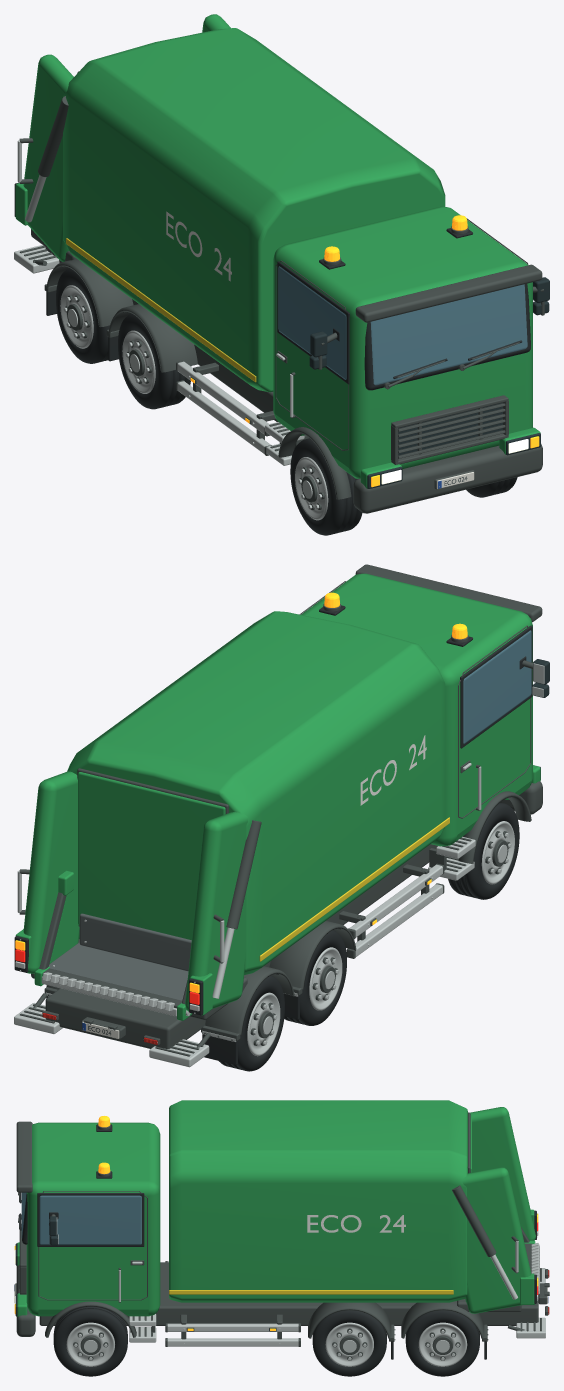
File: refuse_truck.glb
3 views of the same model, one above another, from view 1: azimuth 30°, elevation 25°; view 2: azimuth 150°, elevation 25°; view 3: azimuth 270°, elevation 25° (orthographic). The views are drawn at different scales.
Visible parts, largest first — view 1: Compactor body, Cab shell, Panoramic windshield, Front bumper, Hopper cheek, Door window, Sun visor, Performance tire, Performance tire.001, Rear mudguard, Rear mudguard.001, Performance tire.002 (+15 smaller); view 2: Compactor body, Cab shell, Rear access panel, Hopper cheek.001, Hopper cheek, Ladder chassis, Door window, Hopper floor wear plate, Hopper lower wear plate, Performance tire, Rear mudguard, Sun visor (+20 smaller); view 3: Compactor body, Cab shell, Hopper cheek.001, Ladder chassis, Door window.001, Hopper cheek, Performance tire.003, Performance tire.005, Performance tire.004, Reflective tape.001, Alloy wheel dish.005, Alloy wheel dish.003 (+14 smaller).
Boxes of the visible parts, <box> form: Compactor body: <box>63,28,445,392</box>; Cab shell: <box>273,206,532,478</box>; Panoramic windshield: <box>370,284,527,385</box>; Front bumper: <box>353,444,542,513</box>; Hopper cheek: <box>23,54,73,261</box>; Door window: <box>278,266,346,379</box>; Sun visor: <box>355,264,542,322</box>; Performance tire: <box>290,438,362,535</box>; Performance tire.001: <box>118,313,191,409</box>; Rear mudguard: <box>108,304,197,372</box>; Rear mudguard.001: <box>46,259,133,327</box>; Performance tire.002: <box>56,268,109,363</box>; Compactor body: <box>67,611,445,974</box>; Cab shell: <box>301,573,532,846</box>; Rear access panel: <box>78,772,225,939</box>; Hopper cheek.001: <box>23,771,79,973</box>; Hopper cheek: <box>185,812,247,1011</box>; Ladder chassis: <box>45,844,437,1048</box>; Door window: <box>463,630,531,744</box>; Hopper floor wear plate: <box>49,942,188,1000</box>; Hopper lower wear plate: <box>79,913,191,971</box>; Performance tire: <box>448,802,519,899</box>; Rear mudguard: <box>269,921,356,989</box>; Sun visor: <box>355,564,542,622</box>; Compactor body: <box>169,1100,467,1302</box>; Cab shell: <box>26,1122,160,1316</box>; Hopper cheek.001: <box>462,1167,531,1313</box>; Ladder chassis: <box>39,1262,538,1325</box>; Door window.001: <box>39,1195,141,1244</box>; Hopper cheek: <box>470,1107,535,1240</box>; Performance tire.003: <box>53,1306,127,1376</box>; Performance tire.005: <box>405,1310,479,1376</box>; Performance tire.004: <box>312,1310,386,1376</box>; Reflective tape.001: <box>169,1290,453,1294</box>; Alloy wheel dish.005: <box>418,1322,467,1366</box>; Alloy wheel dish.003: <box>66,1322,114,1366</box>.
Size of the model in its own units: 3.03 by 3.62 by 7.95.
